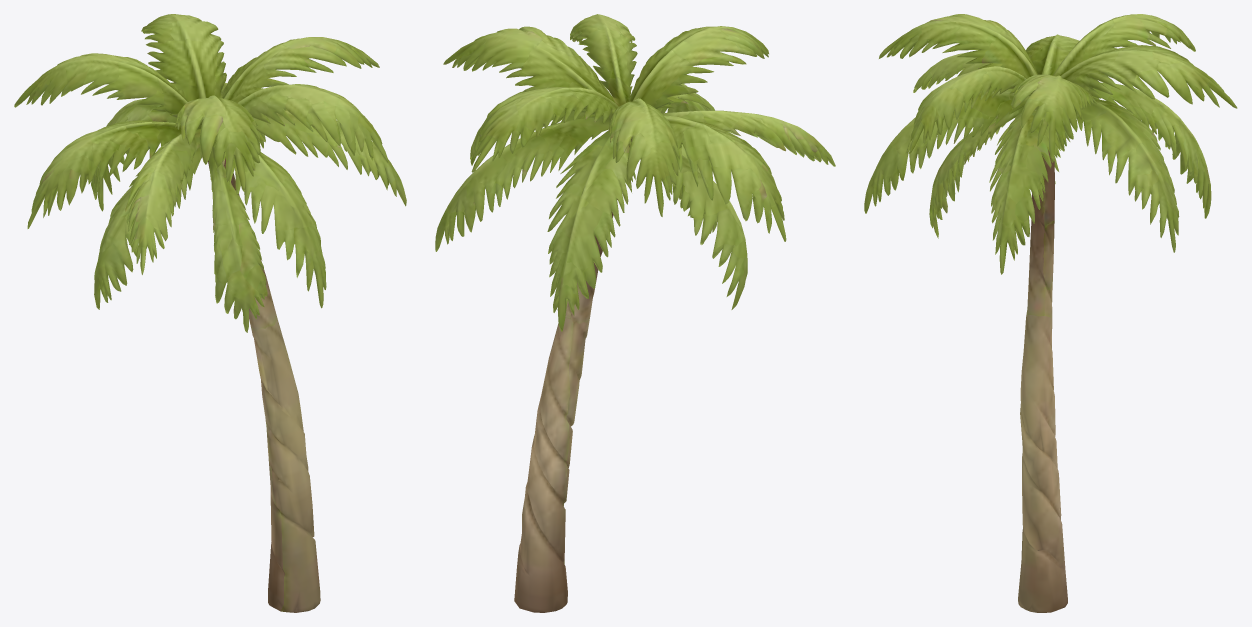
The model's file is date-palm.glb.
The picture shows the model from 3 angles, left to right: view 1: azimuth 30°, elevation 25°; view 2: azimuth 150°, elevation 25°; view 3: azimuth 270°, elevation 25°; orthographic projection. The views are drawn at different scales.
Bounding box in the file's own units: 1.23 × 1.9 × 1.22.
1 material, 1 textured.
